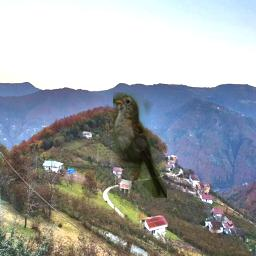Sparrow: (113, 92, 167, 198)
